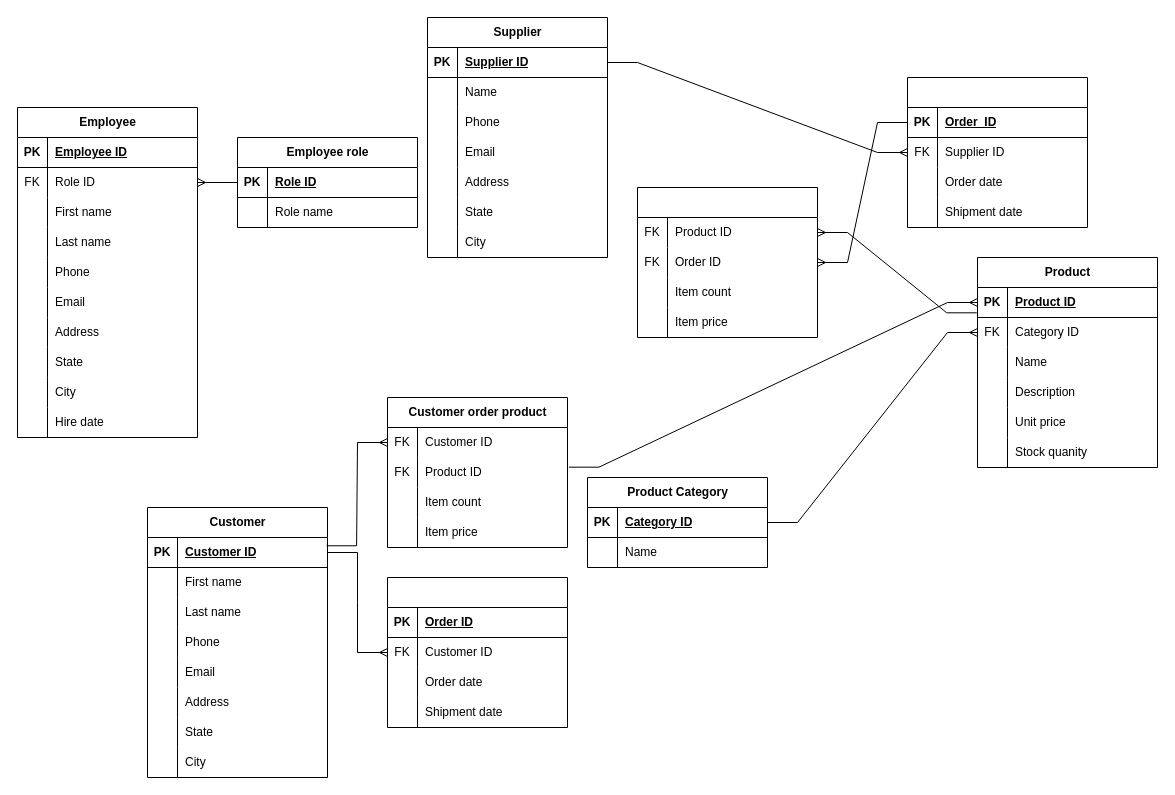
Some shapes in this 1175 by 795 pixel diagram are drawn without their labels. The box of each missing label's shape, as (x1, y1, x2, y2) in pixels:
Customer order: (386, 576, 568, 728)
Supply Order: (906, 76, 1088, 228)
Supply order product: (636, 186, 818, 338)
